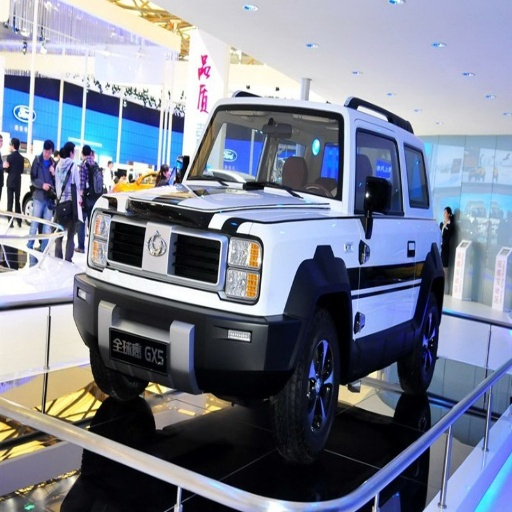front_bumper: (75, 197, 292, 393)
front_glass: (246, 111, 344, 189)
front_left_door: (358, 133, 408, 337)
trunk: (235, 202, 353, 321)
